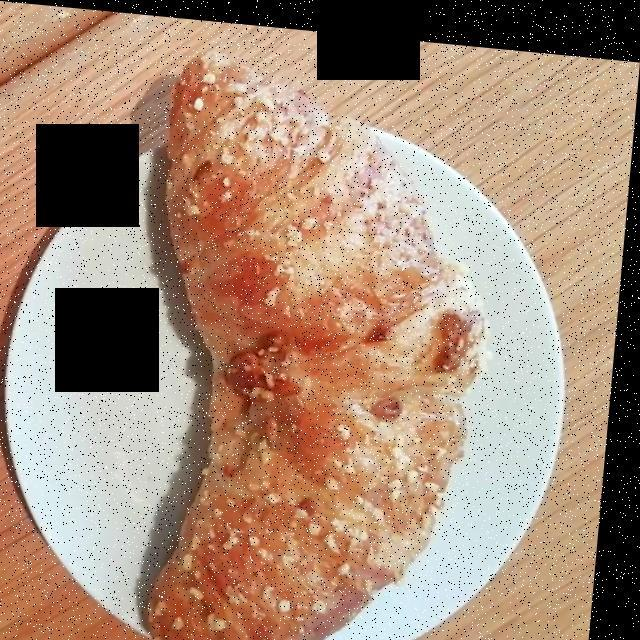croissant: (155, 53, 491, 640)
